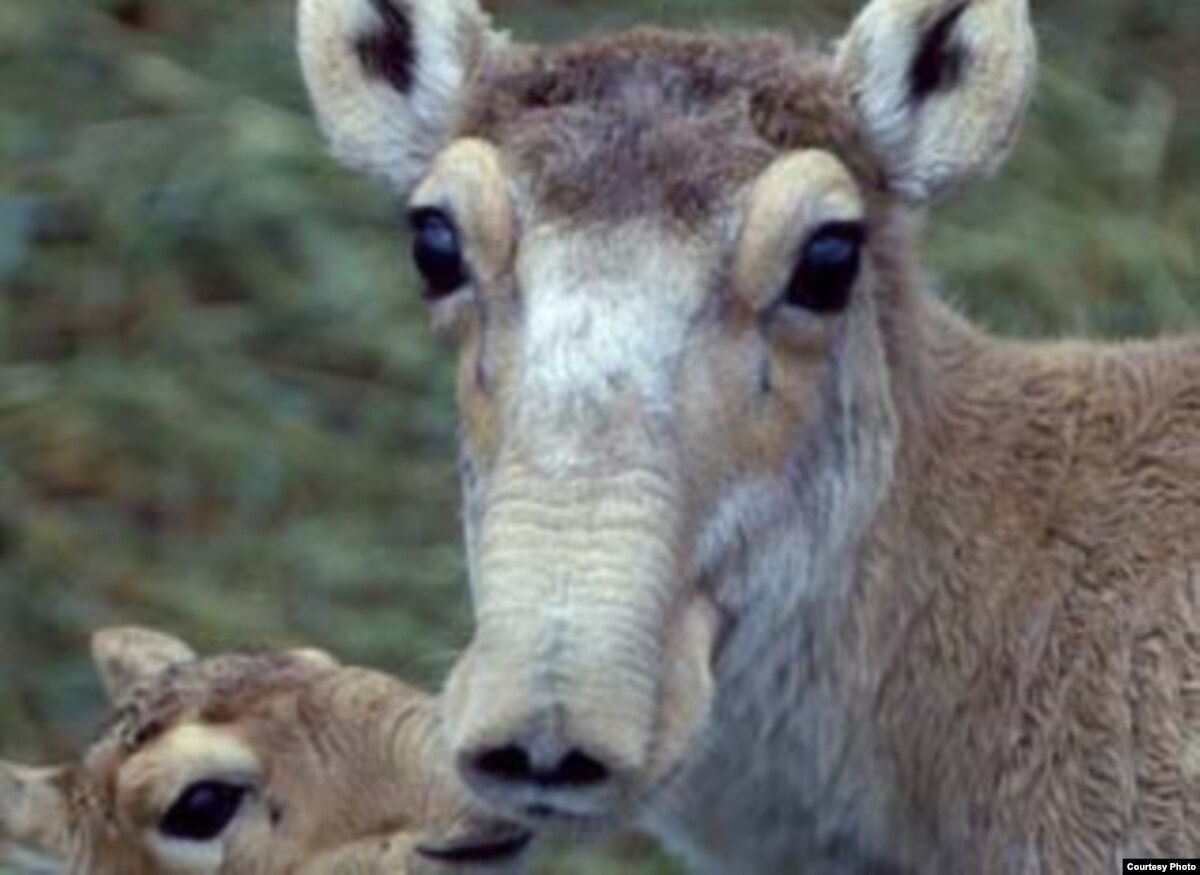saiga: (267, 2, 1200, 875)
